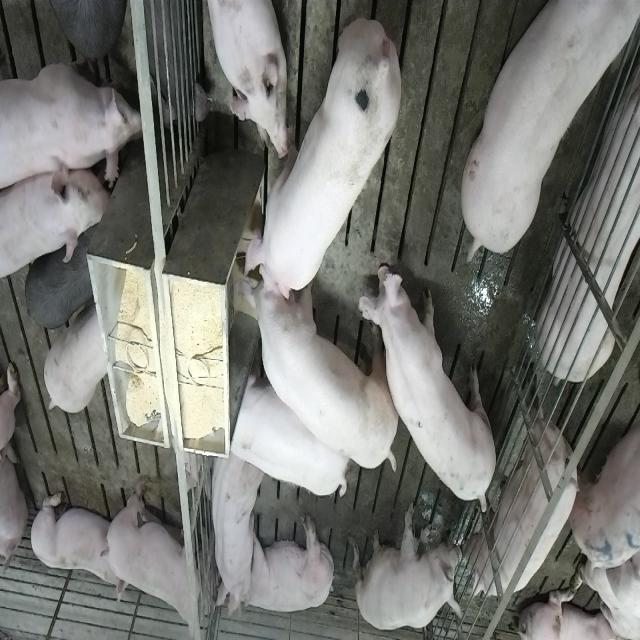Feeding: (240, 15, 404, 307), (229, 254, 397, 474)
Lateral_lying: (228, 512, 338, 618)
Sitting: (354, 502, 464, 632)
Standing: (464, 0, 640, 258), (358, 256, 498, 513), (464, 383, 578, 598), (2, 38, 142, 196), (100, 473, 210, 636), (226, 362, 352, 499), (3, 163, 111, 285), (570, 389, 640, 573), (25, 225, 101, 331), (43, 301, 109, 414), (41, 2, 122, 62)
Sternal_lying: (541, 36, 640, 380), (202, 0, 288, 159), (28, 485, 122, 603), (206, 446, 263, 612)
